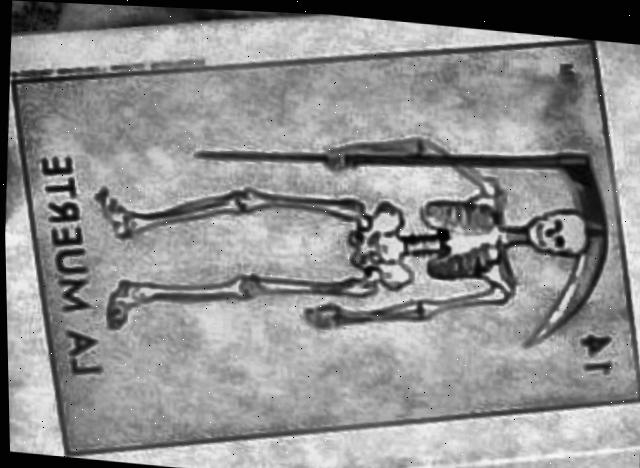La Muerte: (14, 41, 638, 452)
